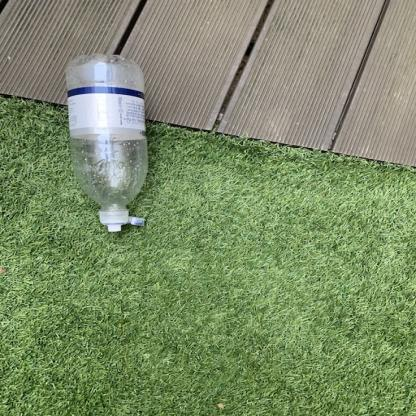trash: (63, 52, 154, 232)
